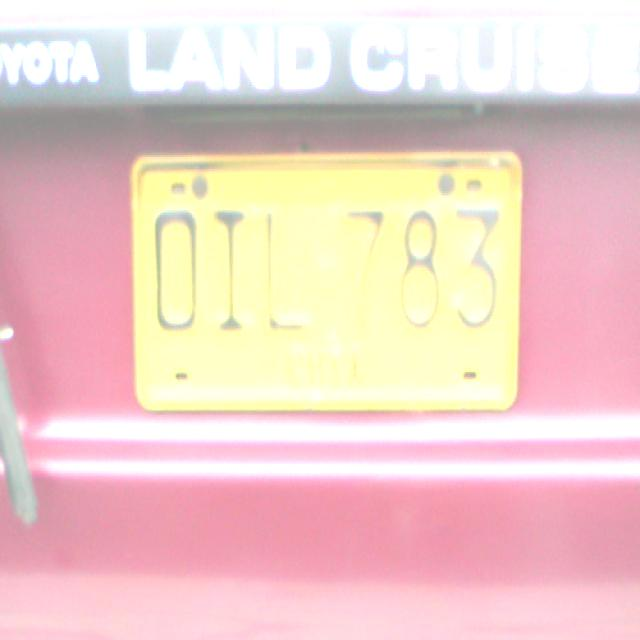placa: (128, 148, 525, 414)
